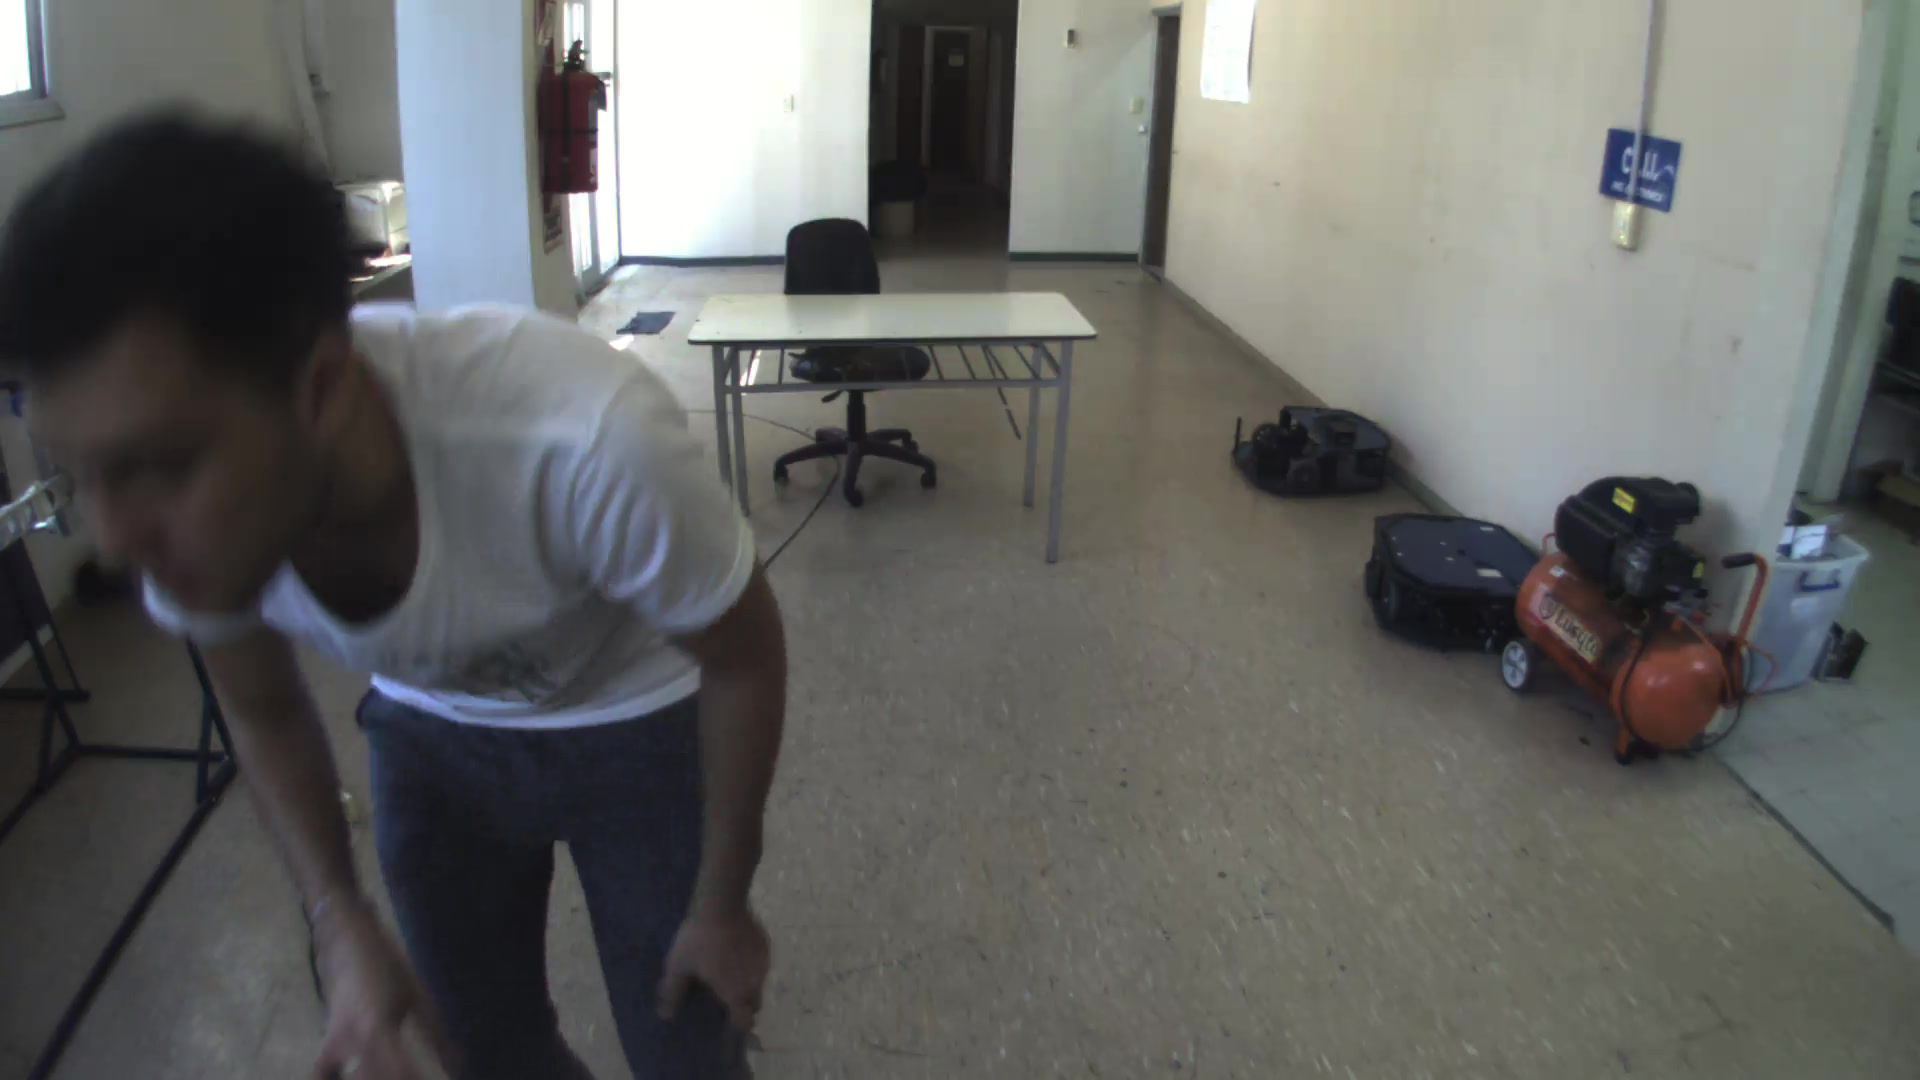hand: (645, 902, 775, 1043)
